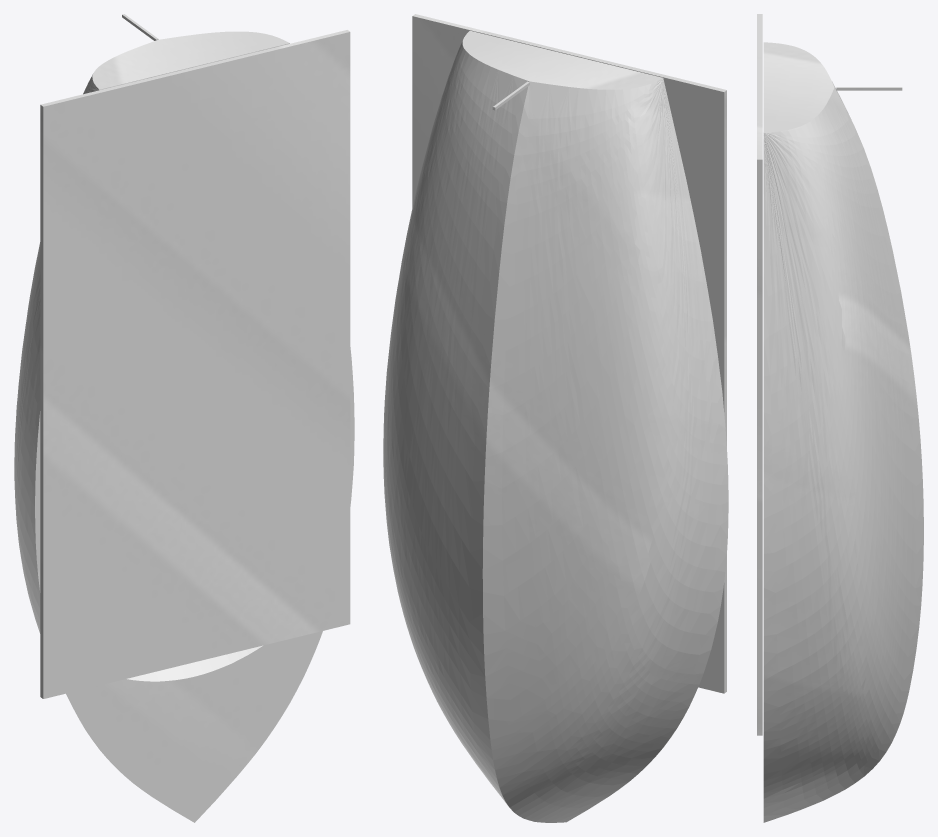
The model's file is boat.obj.
3 renders of one model, left to right at view 1: azimuth 30°, elevation 25°; view 2: azimuth 150°, elevation 25°; view 3: azimuth 270°, elevation 25°, orthographic. The views are drawn at different scales.
Visible parts, largest first — view 1: node_shape0; view 2: node_shape0; view 3: node_shape0.
Boxes of the visible parts, x1=… form: node_shape0: x1=14, y1=14, x2=354, y2=822; node_shape0: x1=383, y1=14, x2=728, y2=822; node_shape0: x1=757, y1=14, x2=923, y2=822.
Bounding box in the file's own units: 1.3 × 2.94 × 0.6048.
Materials: 1 (1 with a texture image).
